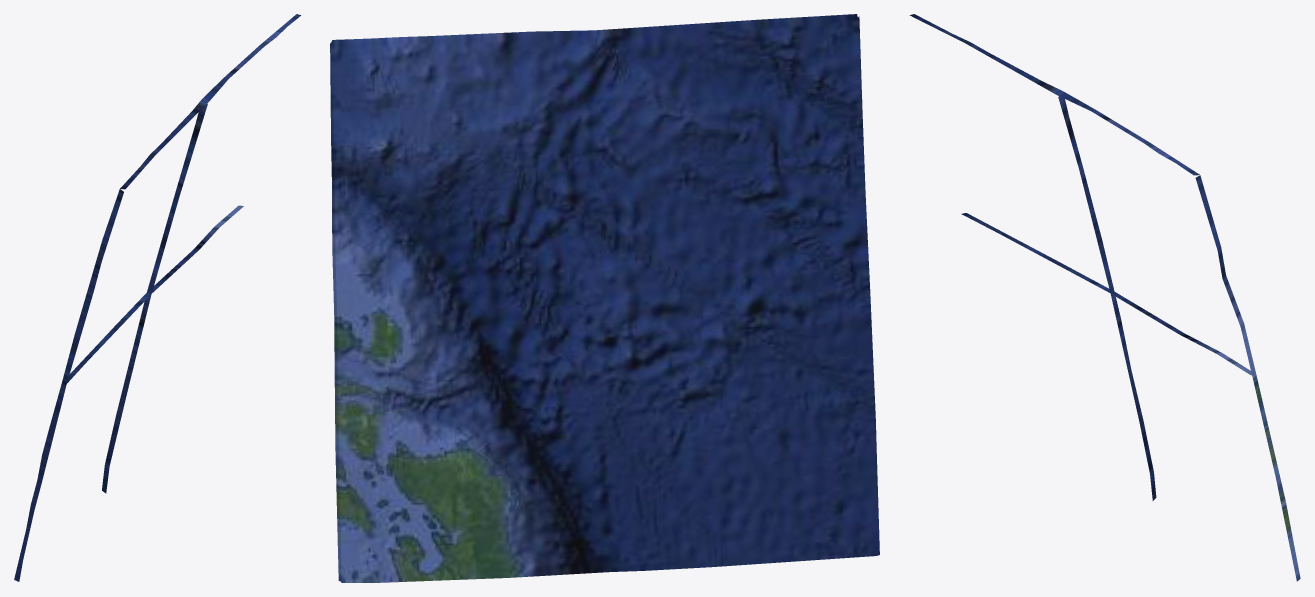
3 views of the same model, side by side, from view 1: azimuth 30°, elevation 25°; view 2: azimuth 150°, elevation 25°; view 3: azimuth 270°, elevation 25° (orthographic). The views are drawn at different scales.
Bounding box in the file's own units: 583706 × 612721 × 495534.
1 material, 1 textured.
